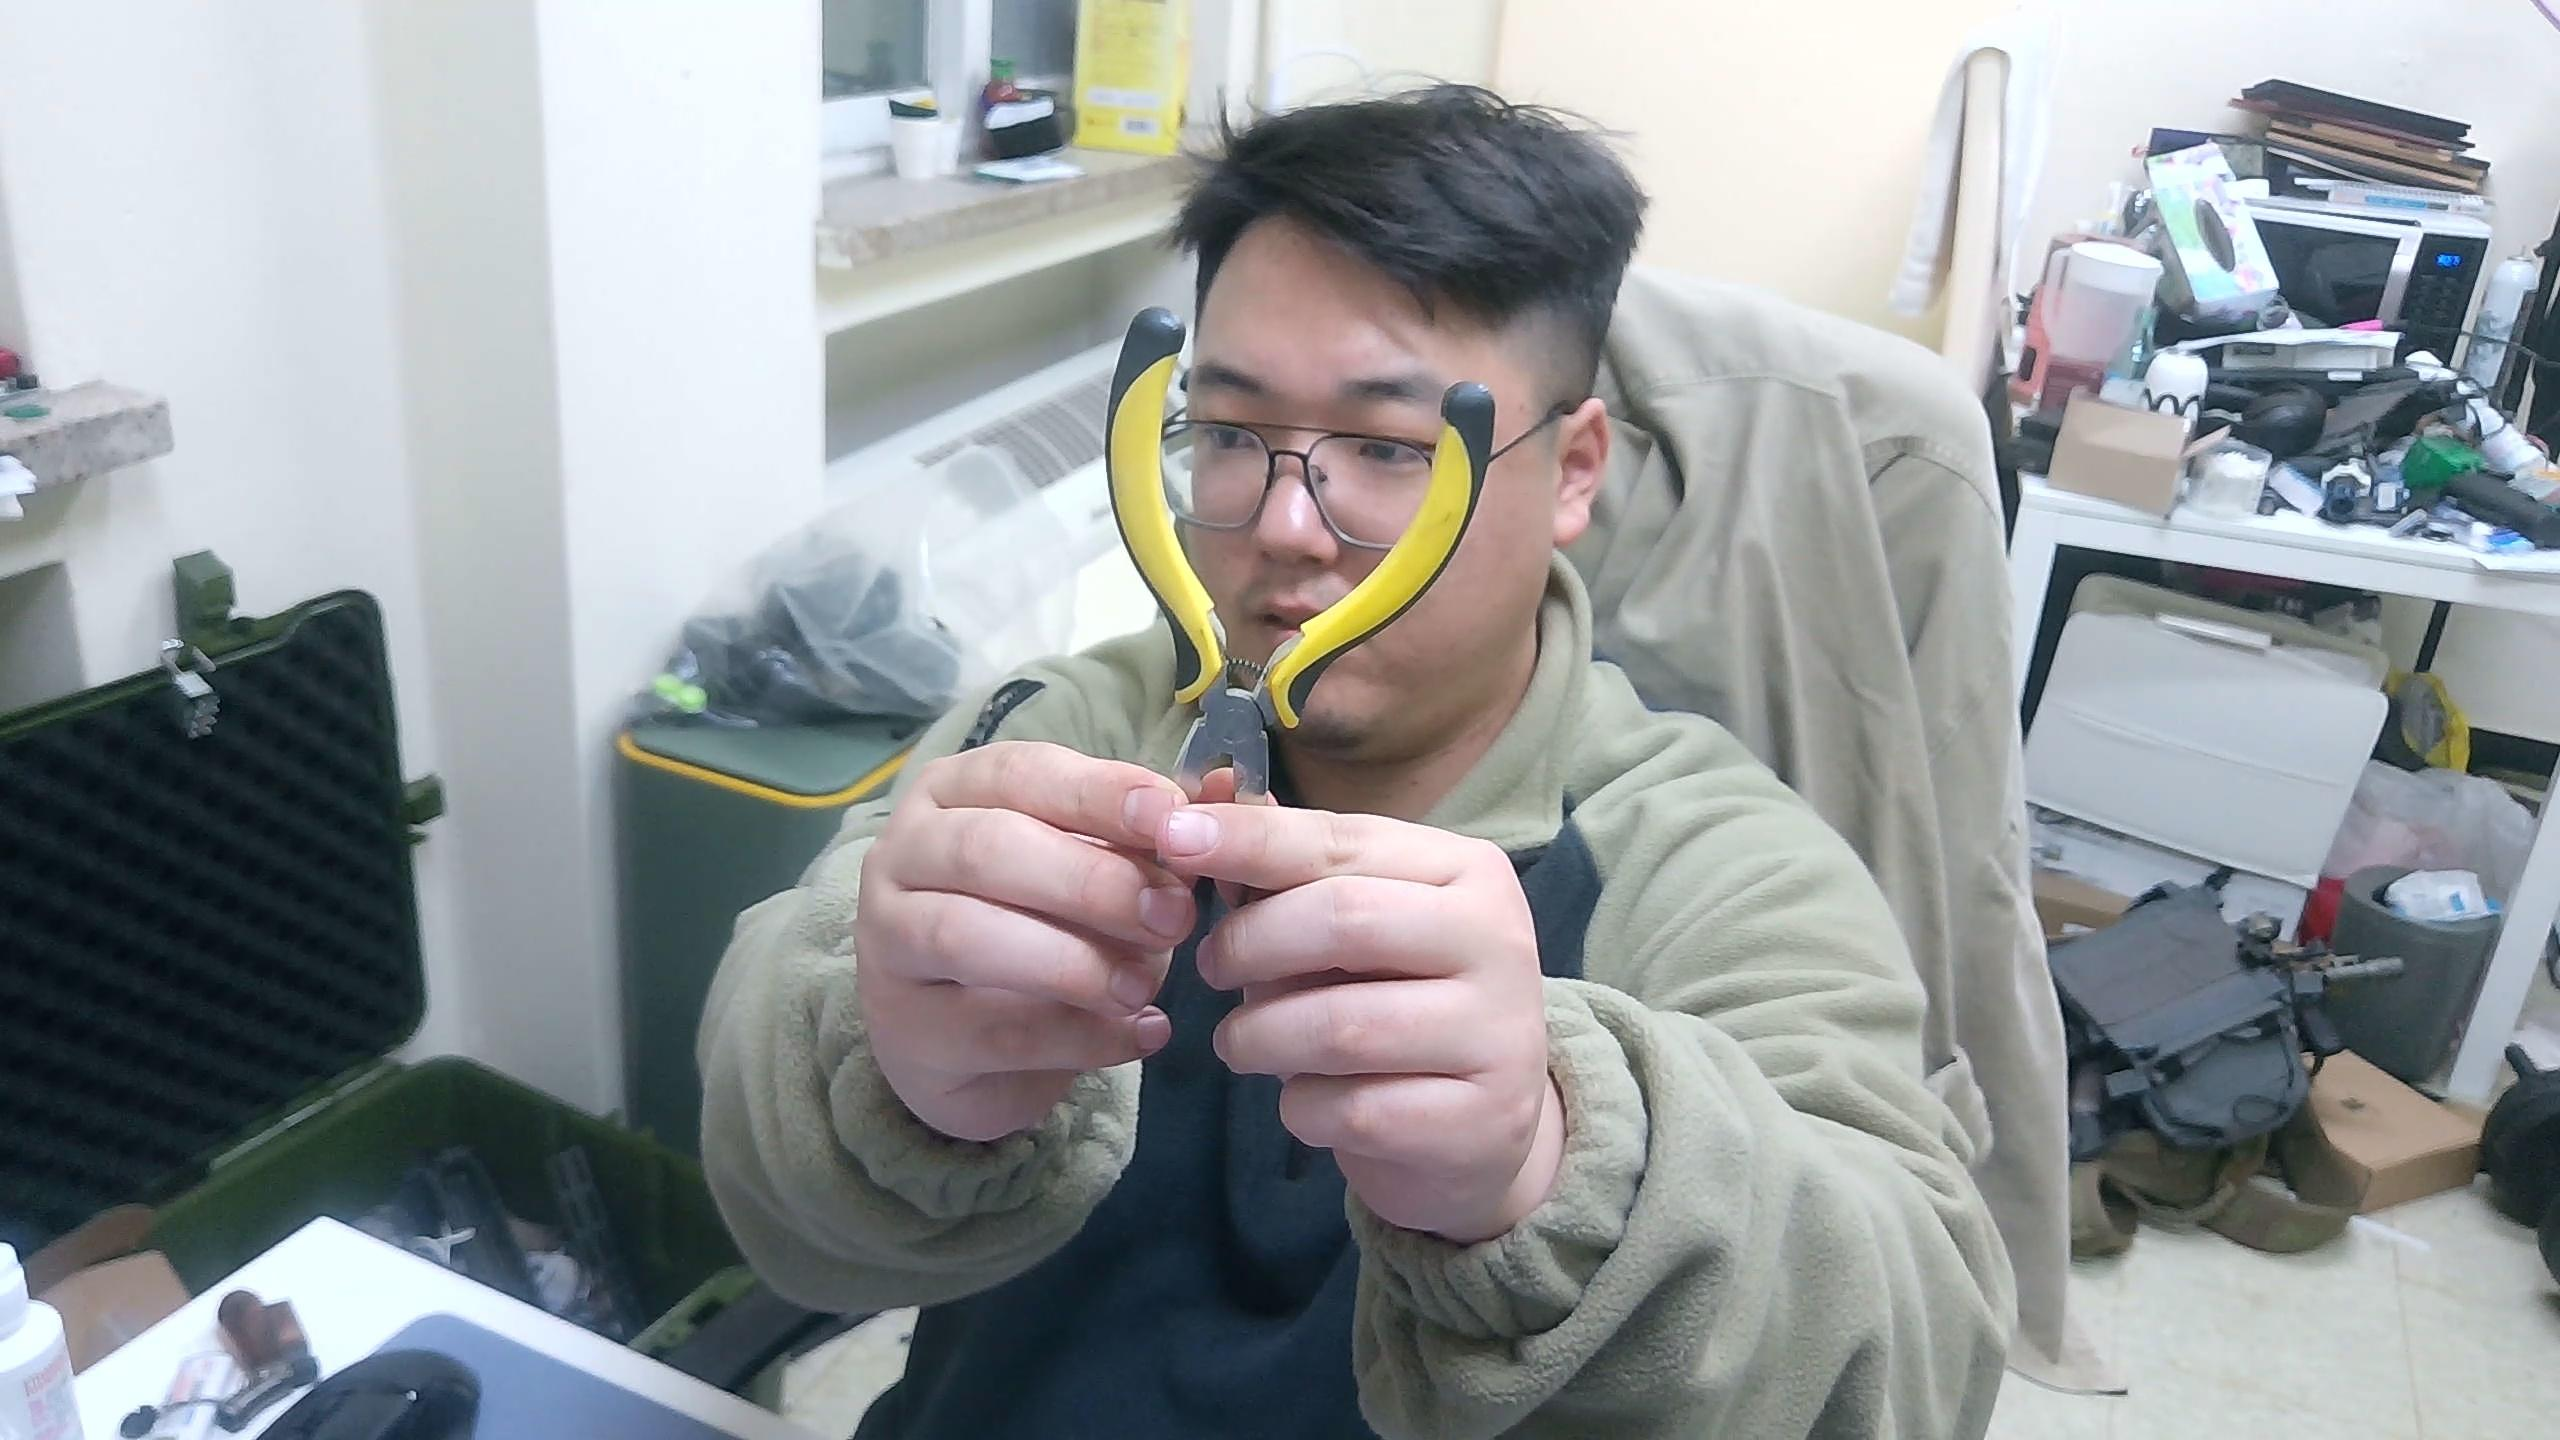earphone: (1102, 304, 1565, 805)
